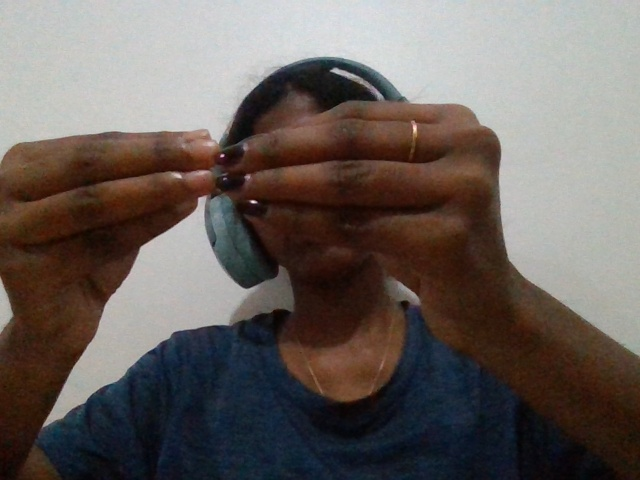More: (1, 93, 559, 434)
